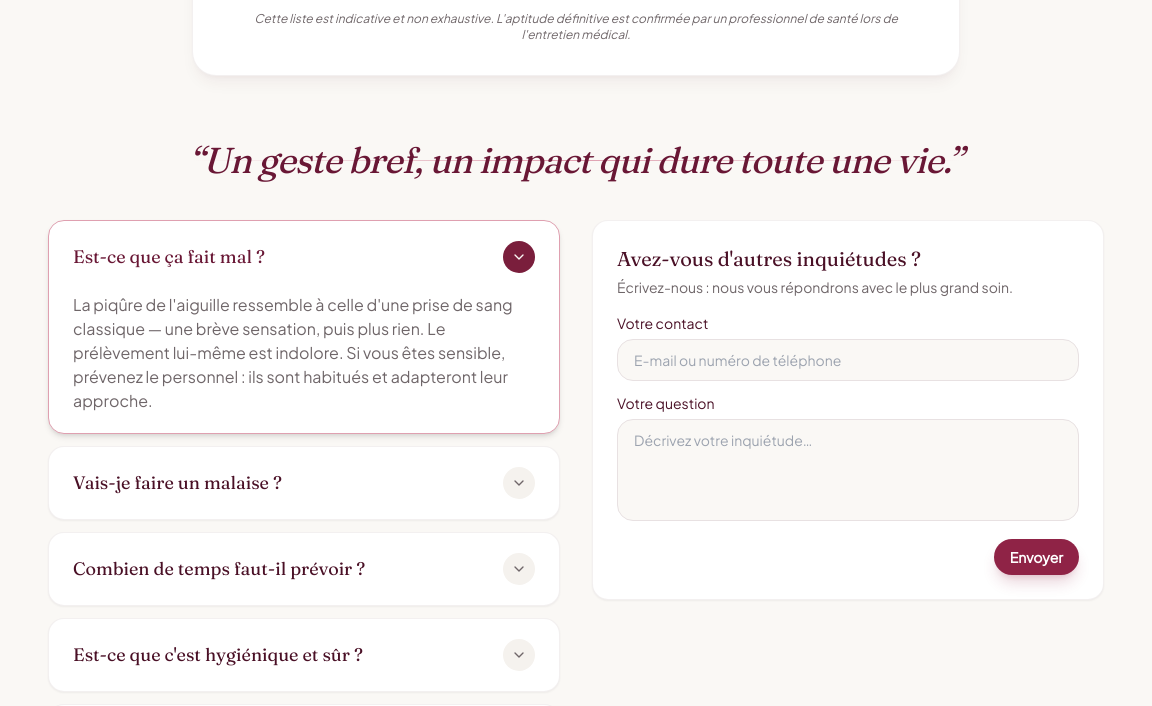
FaqSection › confirme l’envoi du formulaire d’inquiétude
(page scrolled)
Type "test@example.com" into the field labelled "Votre contact" at (848, 360), box [617,339,1079,381]
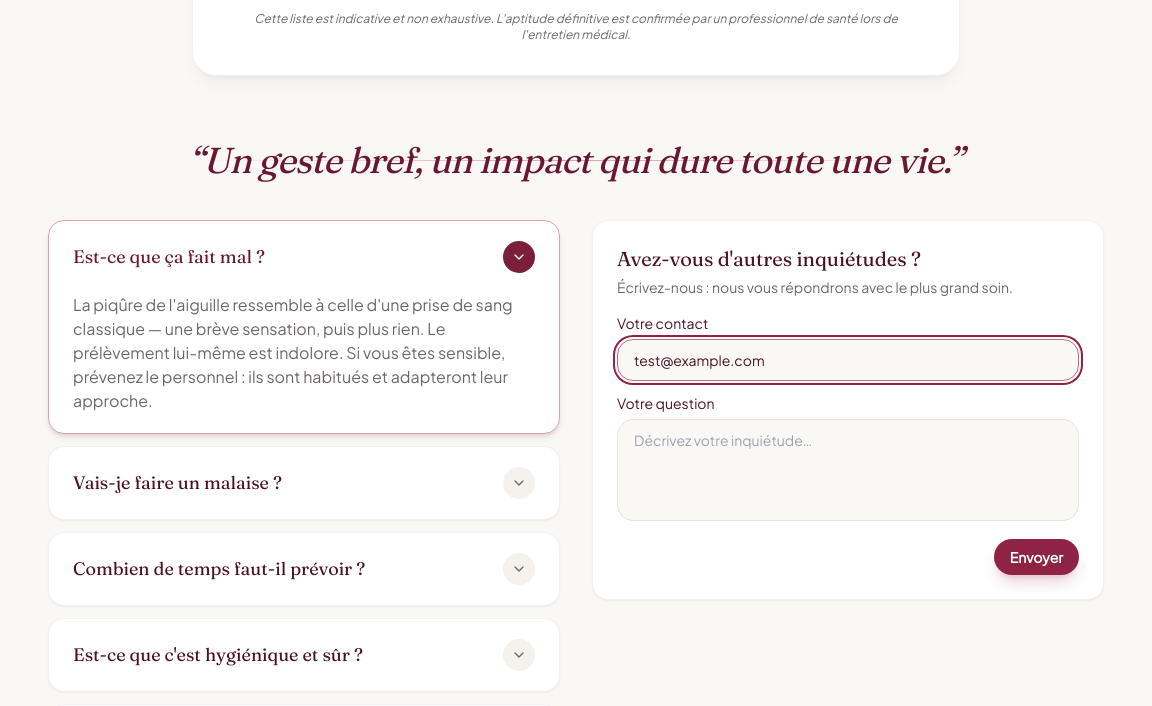
Type "Question sur le délai entre deux dons." into the text box labelled "Votre question" at (848, 470), box [617,419,1079,521]
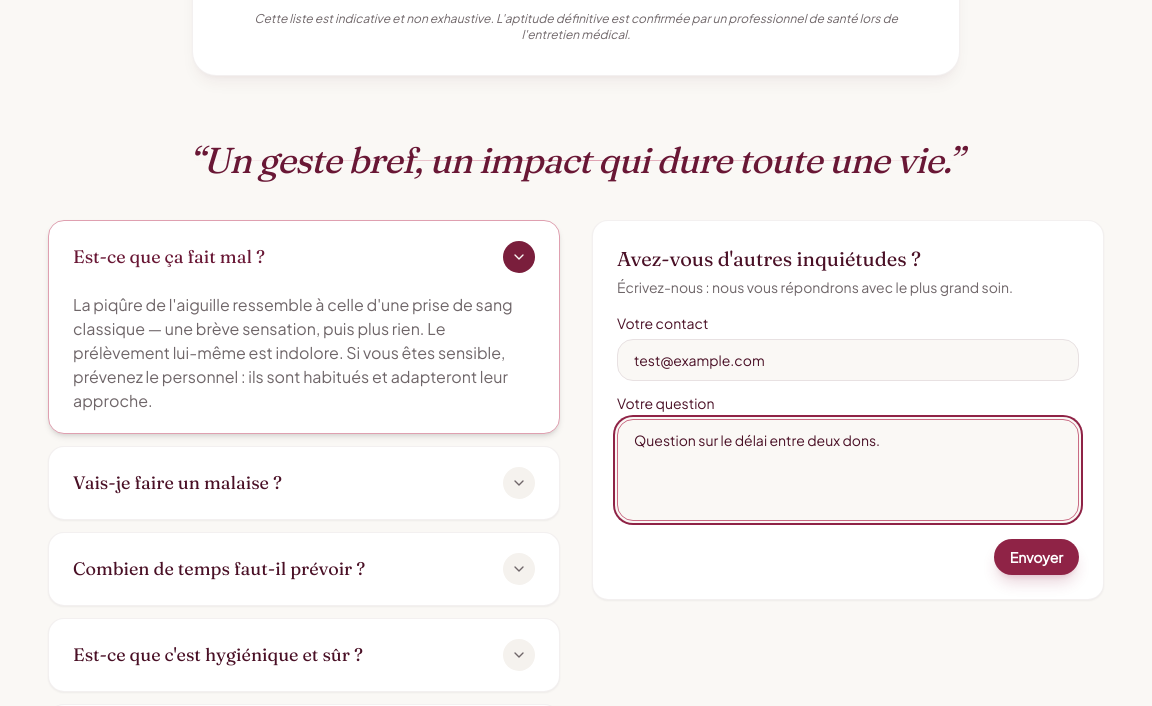
Click the button "Envoyer" at (1036, 557), box [994,539,1079,575]
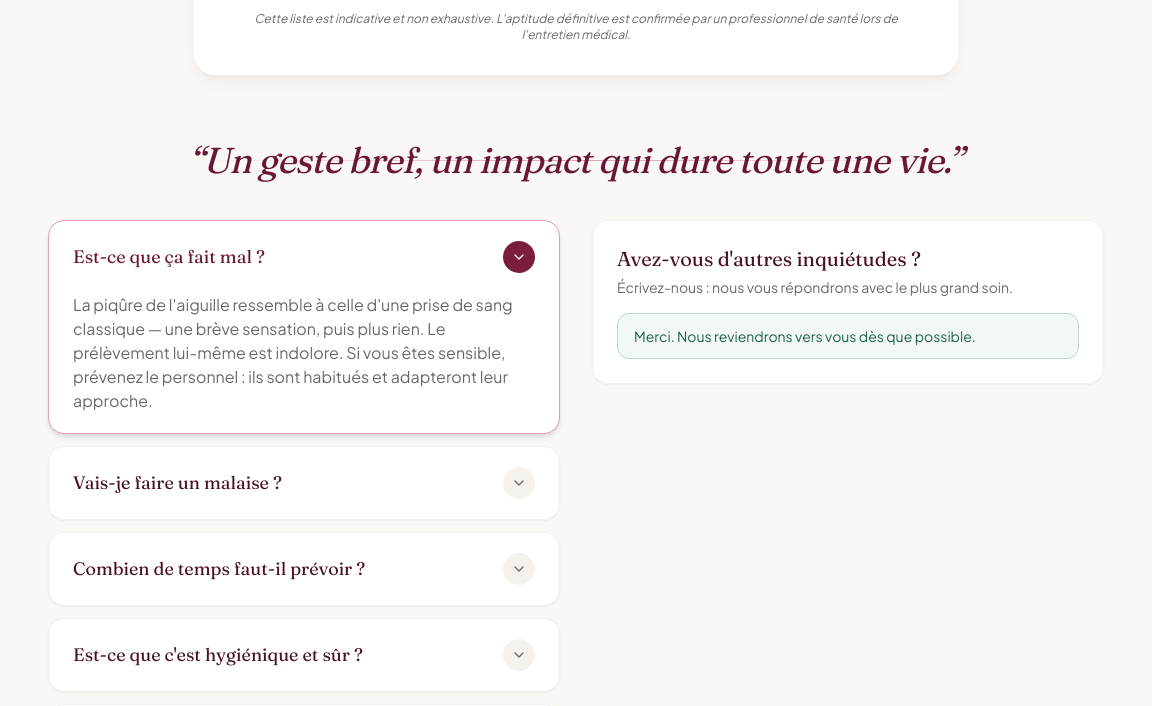
Check: the message shows "Merci", box [634,327,976,345]
